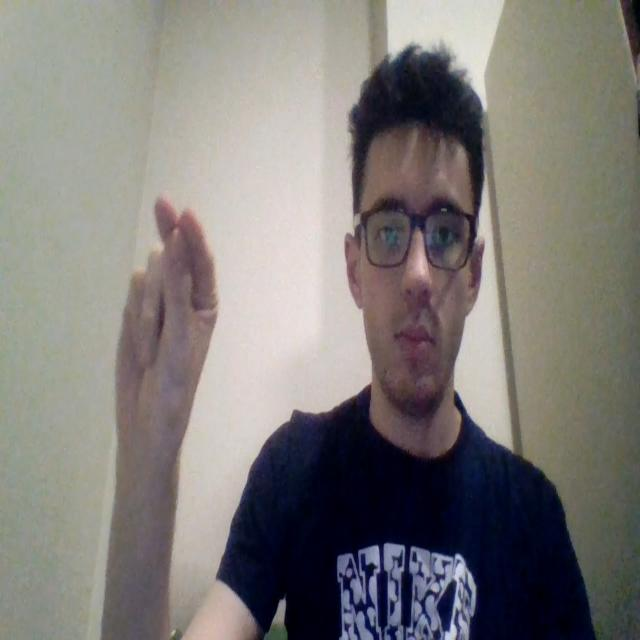no: (113, 193, 219, 467)
